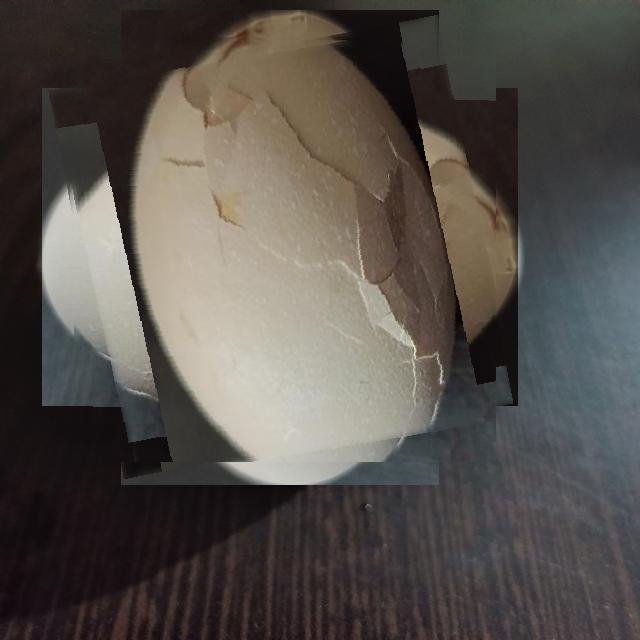biodegradable: (65, 32, 496, 462)
